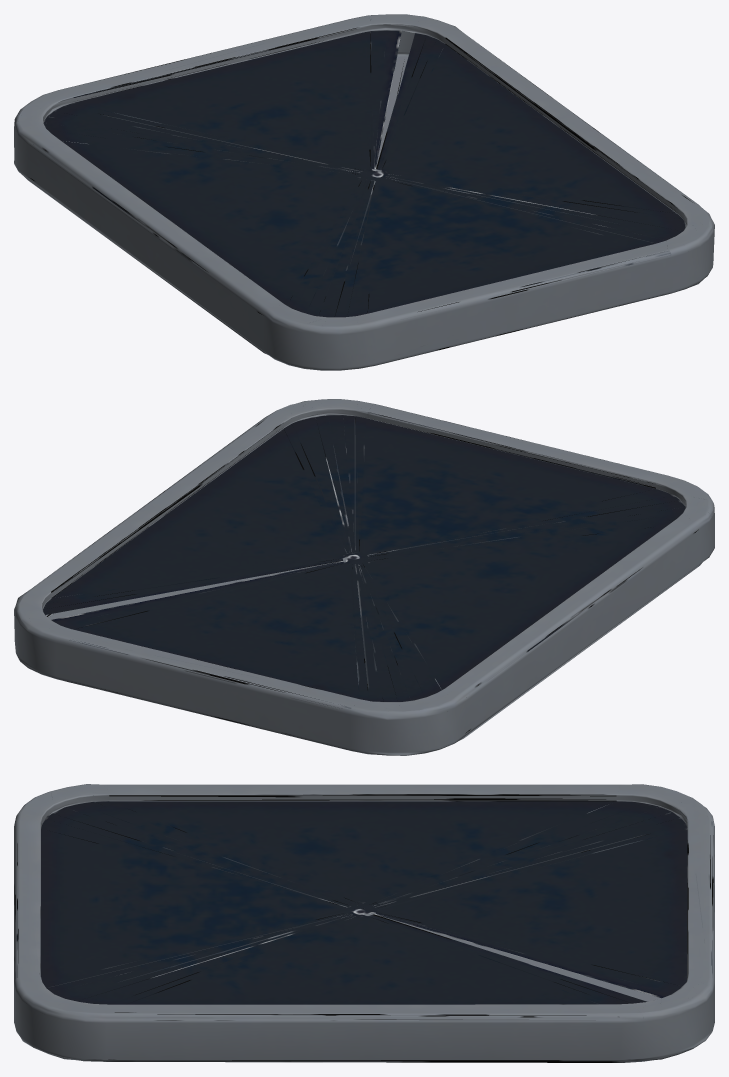
File: Meshy_AI_model.glb
The picture shows the model from 3 angles, top to bottom: view 1: azimuth 30°, elevation 25°; view 2: azimuth 150°, elevation 25°; view 3: azimuth 270°, elevation 25°; orthographic projection. The views are drawn at different scales.
Parts seen in each view (by area): view 1: geometry_0; view 2: geometry_0; view 3: geometry_0.
Boxes of the visible parts, x1,y1,x2,y2 form: geometry_0: (14,14,714,370); geometry_0: (14,399,714,755); geometry_0: (14,784,714,1062).
Size of the model in its own units: 0.7515 by 0.0718 by 0.9478.
1 material, 1 textured.
